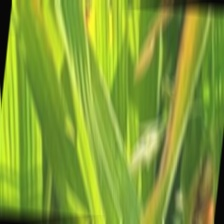Leaf_Blast: (149, 10, 191, 219)
